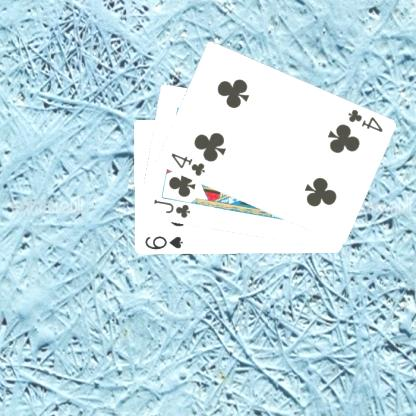4C: (345, 106, 384, 134), (168, 150, 206, 178)
6S: (142, 234, 184, 250)
JC: (150, 197, 192, 220)
